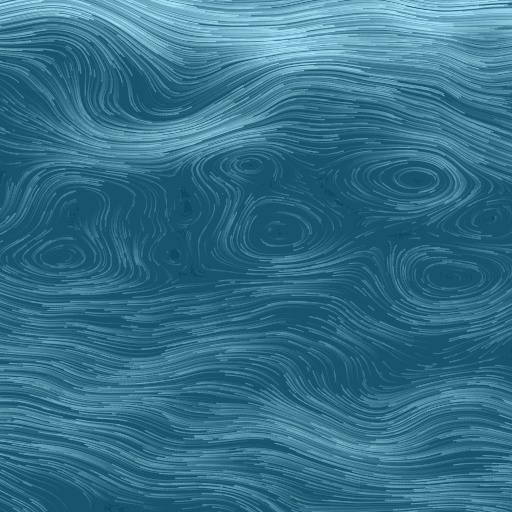eddy: (9, 177, 116, 283), (390, 240, 508, 310), (225, 196, 339, 264), (350, 150, 458, 213), (221, 148, 278, 183)
